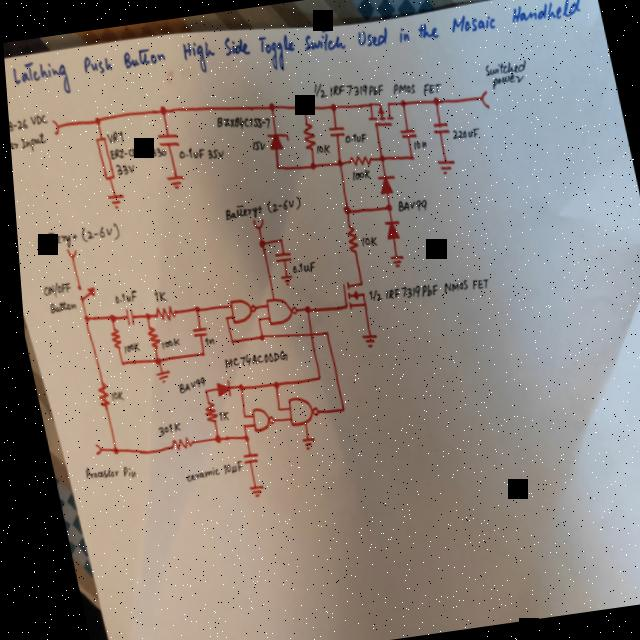capacitor: (153, 129, 178, 149), (427, 118, 448, 136), (232, 450, 252, 466), (268, 249, 288, 264), (323, 124, 344, 138), (117, 306, 131, 327), (395, 126, 415, 140), (183, 324, 203, 338)
crossover: (300, 328, 310, 339)
diode: (370, 170, 395, 196), (262, 130, 288, 152), (378, 218, 398, 242), (206, 376, 227, 398)
ground: (432, 156, 455, 175), (160, 172, 184, 190), (102, 191, 123, 210), (353, 331, 374, 349), (238, 481, 258, 499), (146, 368, 166, 386), (383, 252, 402, 270), (292, 434, 311, 452), (275, 272, 290, 286)
junction: (428, 94, 441, 108), (154, 103, 167, 116), (251, 237, 263, 250), (337, 204, 349, 216), (395, 97, 406, 108), (264, 100, 274, 112), (103, 444, 113, 456), (147, 354, 157, 366), (205, 432, 215, 443), (296, 101, 306, 112), (264, 378, 274, 389), (326, 100, 335, 112), (297, 302, 306, 314), (304, 160, 314, 170), (102, 312, 111, 323), (374, 152, 383, 163), (187, 303, 196, 314), (76, 312, 85, 323), (90, 115, 99, 126), (316, 327, 325, 338), (308, 371, 317, 382), (380, 202, 389, 212), (229, 382, 238, 392), (269, 162, 278, 172), (138, 310, 146, 321), (332, 404, 340, 414), (333, 157, 340, 168), (251, 332, 259, 341), (235, 433, 243, 442), (404, 152, 412, 161), (222, 336, 230, 345), (272, 235, 280, 244), (233, 421, 241, 430), (249, 314, 256, 324), (193, 349, 200, 358), (112, 358, 119, 367), (217, 313, 224, 322), (233, 411, 240, 419), (268, 404, 274, 412), (197, 386, 203, 394)
resistor: (90, 134, 112, 181), (296, 120, 315, 152), (339, 223, 356, 254), (160, 433, 187, 452), (147, 302, 172, 322), (194, 400, 213, 424), (344, 152, 371, 168), (88, 382, 105, 407), (139, 326, 155, 350), (102, 327, 117, 348)
source: (246, 215, 262, 231)
switch: (70, 281, 93, 301)
terminal: (475, 88, 489, 109), (60, 246, 75, 260), (48, 117, 59, 136), (84, 442, 97, 456)
text: (1, 0, 592, 110), (307, 63, 443, 111), (356, 271, 488, 307), (216, 346, 284, 370), (211, 108, 269, 136), (75, 458, 129, 484), (105, 140, 164, 163), (28, 226, 75, 252), (74, 220, 117, 245), (217, 198, 261, 222), (8, 129, 45, 156), (6, 111, 48, 134), (480, 57, 527, 77), (261, 193, 299, 214), (487, 71, 525, 90), (176, 464, 214, 482), (35, 278, 67, 298), (170, 374, 201, 394), (392, 196, 425, 214), (447, 124, 478, 142), (41, 296, 72, 314), (173, 144, 204, 162), (106, 288, 135, 306), (285, 258, 312, 276), (148, 419, 175, 436), (340, 129, 366, 146), (111, 160, 134, 177), (213, 458, 237, 474), (347, 166, 369, 182), (101, 128, 122, 144), (154, 335, 175, 350), (202, 146, 223, 160), (246, 137, 264, 153), (116, 339, 135, 354), (355, 233, 373, 248), (312, 141, 329, 155), (148, 288, 163, 303), (103, 388, 118, 402), (409, 138, 425, 150), (210, 408, 223, 421), (197, 334, 209, 346)
transistor: (333, 276, 365, 312), (361, 98, 394, 130)
